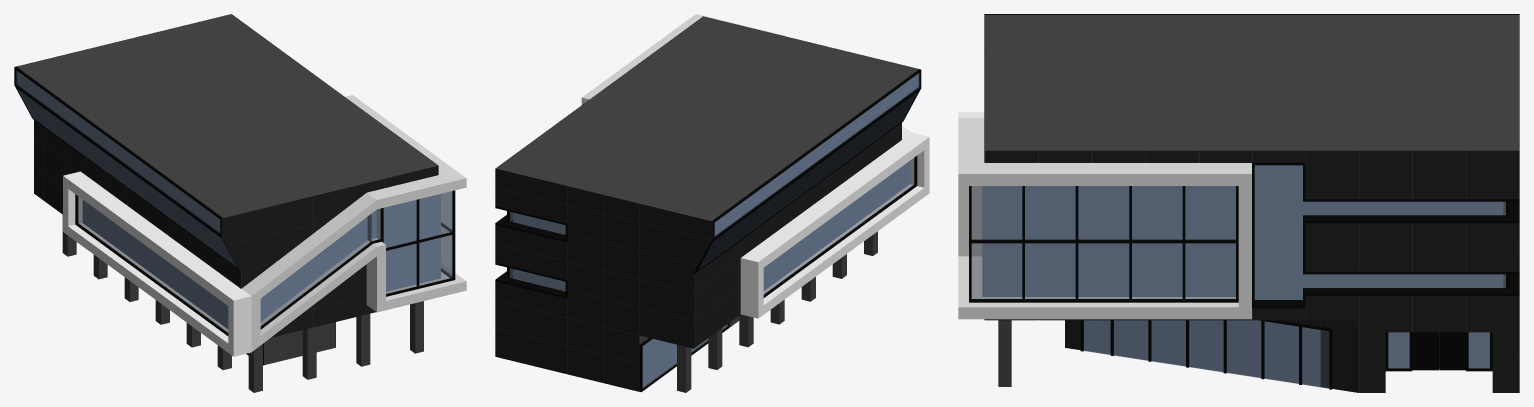
File: office.glb
The picture shows the model from 3 angles, left to right: view 1: azimuth 30°, elevation 25°; view 2: azimuth 150°, elevation 25°; view 3: azimuth 270°, elevation 25°; orthographic projection. The views are drawn at different scales.
Visible parts, largest first — view 1: Object_4, Object_14, Object_17, Object_13, Object_5, Object_23, Object_9; view 2: Object_4, Object_17, Object_14, Object_23, Object_9, Object_13, Object_5; view 3: Object_4, Object_14, Object_13, Object_17, Object_5, Object_9.
Part boxes in pixels (box(x1,y1,x2,y2)): Object_4: box(17, 14, 437, 392); Object_14: box(16, 70, 452, 332); Object_17: box(14, 14, 438, 347); Object_13: box(17, 71, 440, 328); Object_5: box(241, 95, 466, 351); Object_23: box(63, 171, 251, 356); Object_9: box(14, 66, 455, 365); Object_4: box(496, 16, 918, 392); Object_17: box(495, 16, 921, 391); Object_14: box(510, 73, 919, 388); Object_23: box(740, 132, 929, 318); Object_9: box(495, 69, 920, 392); Object_13: box(513, 73, 918, 387); Object_5: box(581, 14, 911, 139); Object_4: box(985, 15, 1519, 392); Object_14: box(971, 165, 1505, 388); Object_13: box(982, 165, 1503, 386); Object_17: box(984, 14, 1519, 392); Object_5: box(958, 117, 1251, 319); Object_9: box(969, 14, 1519, 389).
Bounding box in the file's own units: 13.1 × 10 × 21.02.
